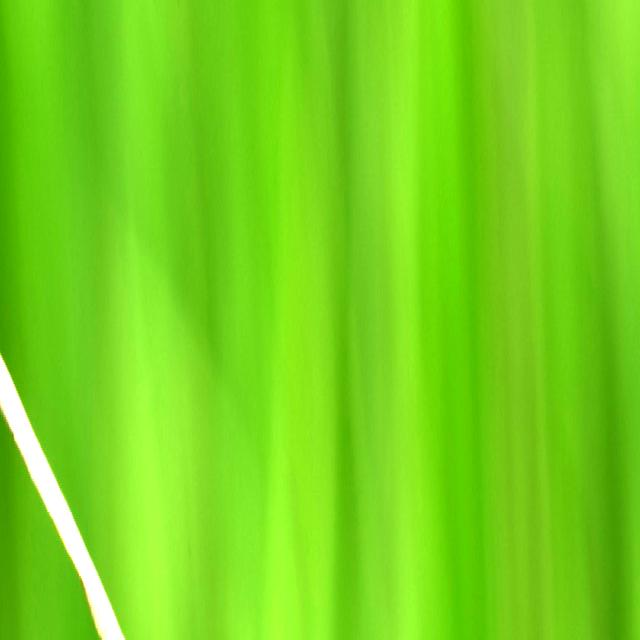BLB: (0, 358, 124, 640)
